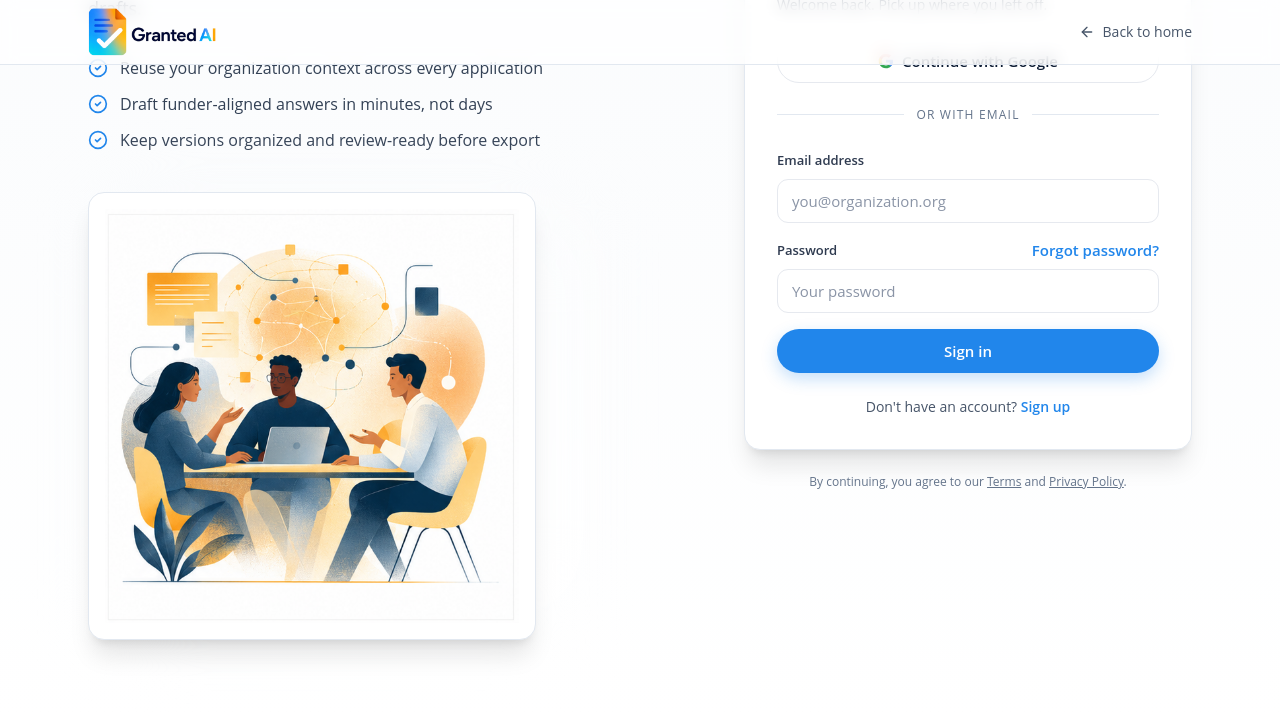
Test: Login recovery › shows confirmation and resends
(page scrolled)
Click the button "Sign up" at (1046, 407), box [1021, 397, 1070, 417]
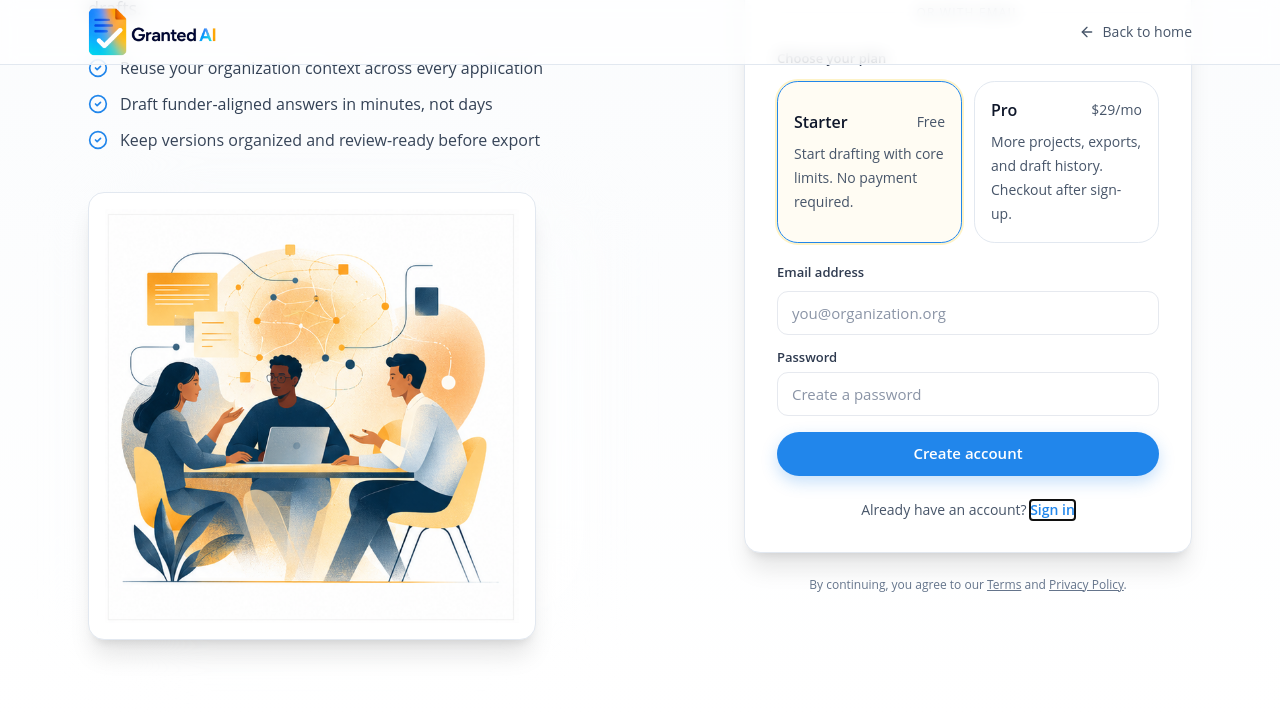
Type "writer@example.org" into the field labelled "Email address" at (968, 312), box [777, 290, 1159, 334]
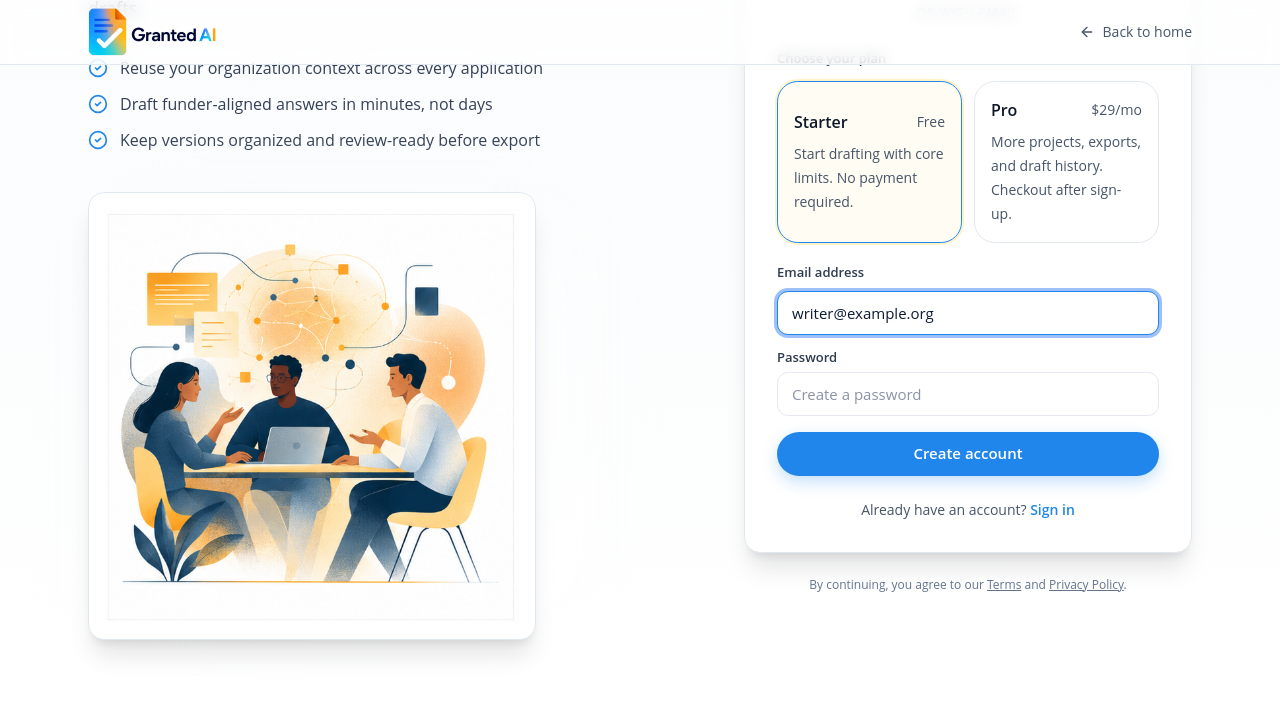
Type "secure-pass" into the password field labelled "Password" at (968, 394), box [777, 372, 1159, 416]
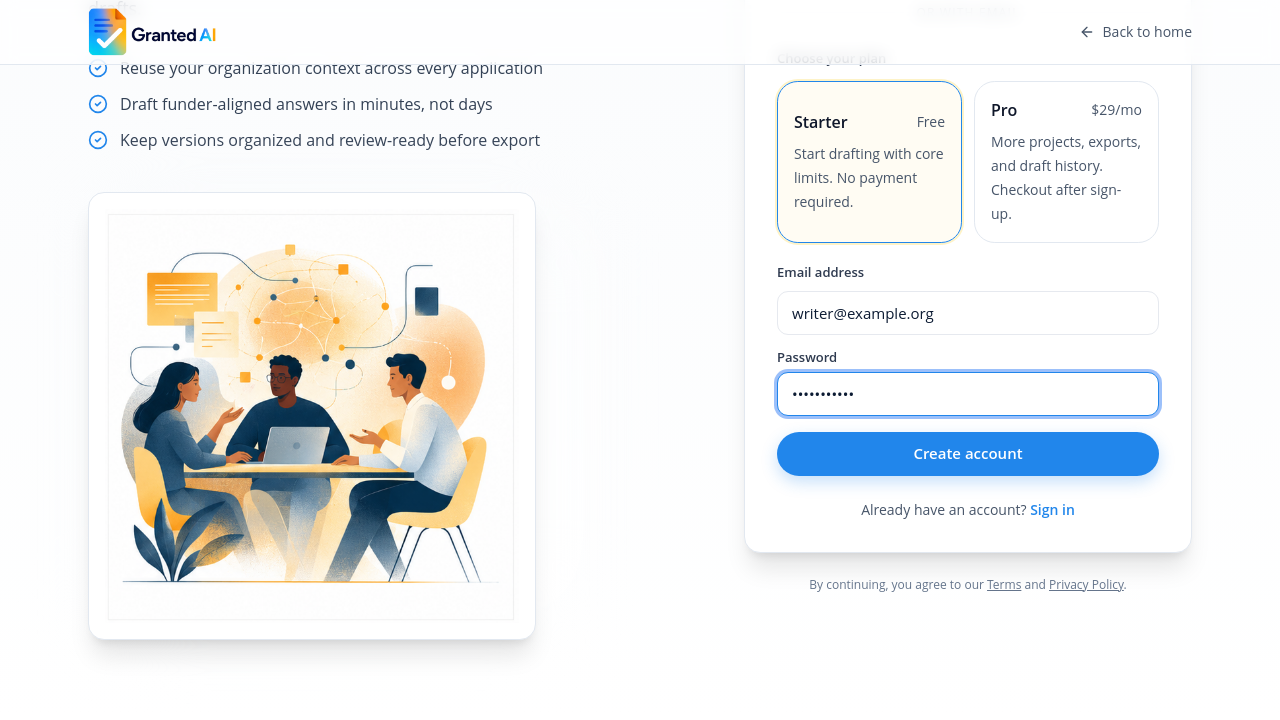
Click the button "Create account" at (968, 454), box [777, 432, 1159, 476]
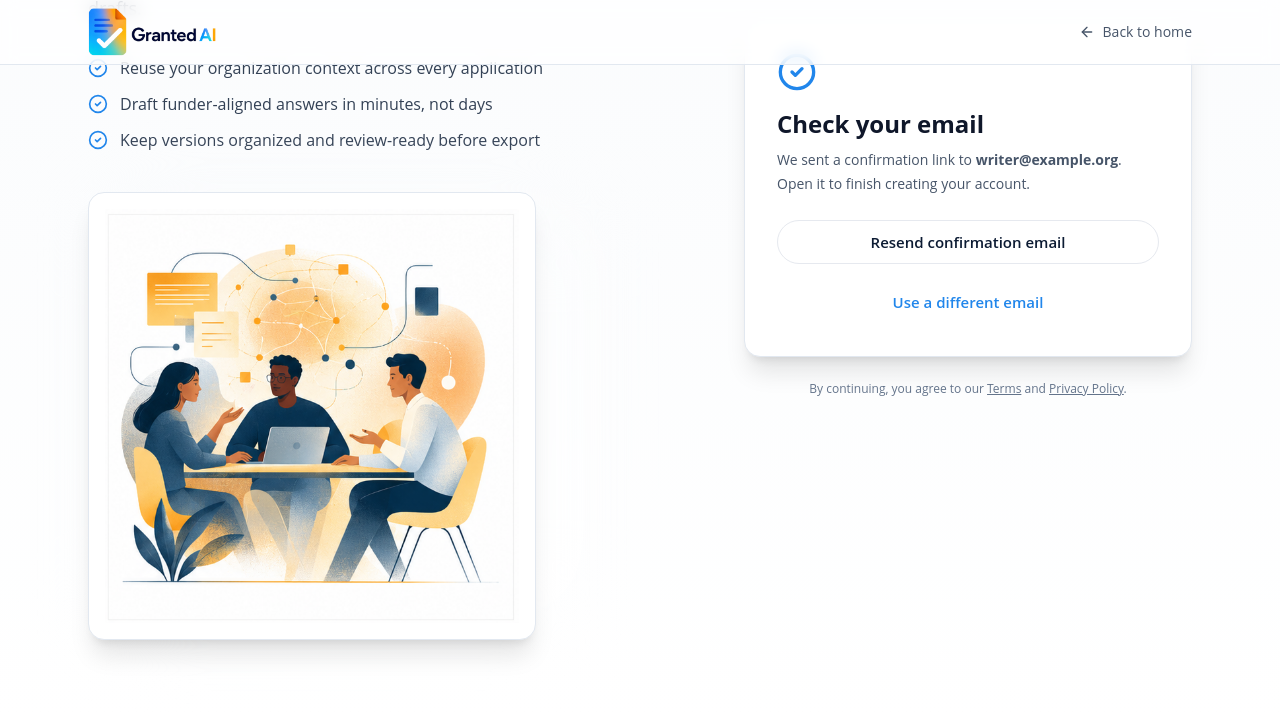
Expected: the heading "Check your email" is shown, [777, 107, 984, 140]
Click the button "Resend confirmation email" at (968, 242), box [777, 220, 1159, 264]
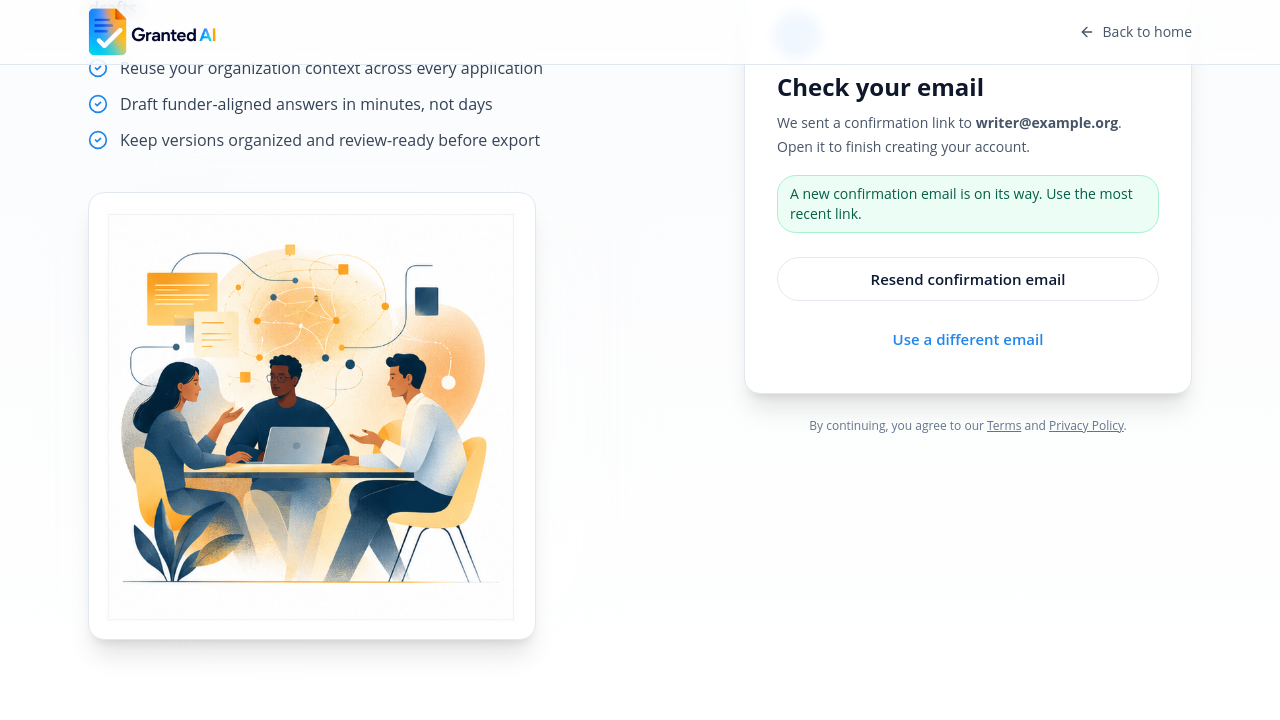
Expected: the message "A new confirmation email is on its way. Use the most recent link." is shown, [777, 175, 1159, 233]
